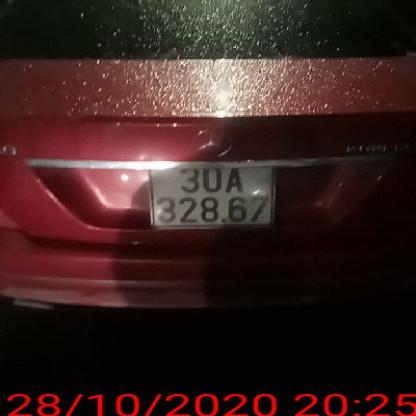biensoxe: (149, 165, 273, 227)
